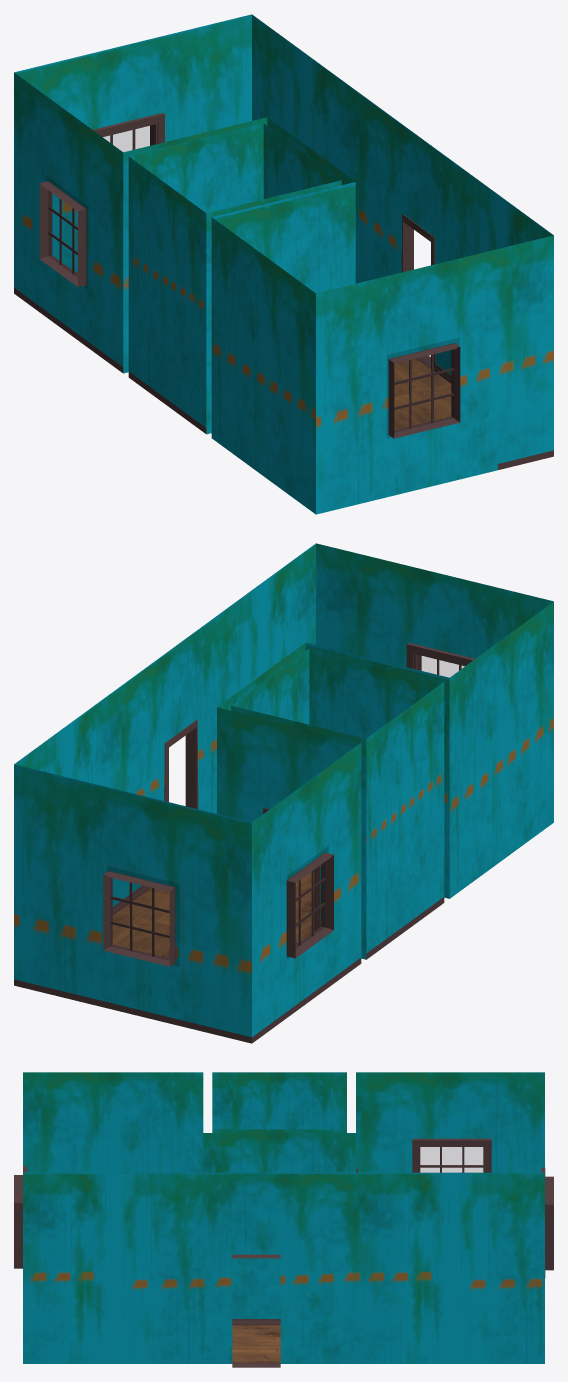
File: House_Lars2.fbx
3 renders of one model, top to bottom at view 1: azimuth 30°, elevation 25°; view 2: azimuth 150°, elevation 25°; view 3: azimuth 270°, elevation 25°, orthographic. The views are drawn at different scales.
Parts seen in each view (by area): view 1: pCube122; view 2: pCube122; view 3: pCube122.
Part boxes in pixels (box(x1,y1,x2,y2)): pCube122: box(14, 14, 553, 514); pCube122: box(14, 543, 553, 1043); pCube122: box(14, 1072, 553, 1367).
Bounding box in the file's own units: 424 × 350 × 896.
5 materials, 2 textured.
